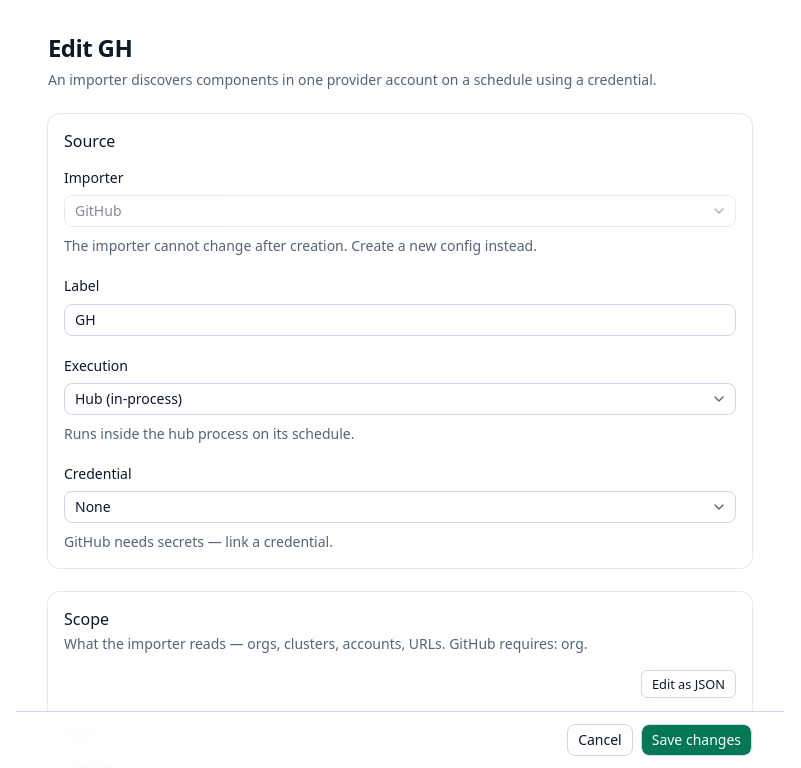
Test: ImporterForm — schema-driven scope fields (G13) › maps server unrecognized_keys errors to the Unrecognized-fields block (FR-005a)
Click the button "Save changes". click: (696, 740)
box: top-left (641, 724), bottom-right (752, 756)
(page scrolled)
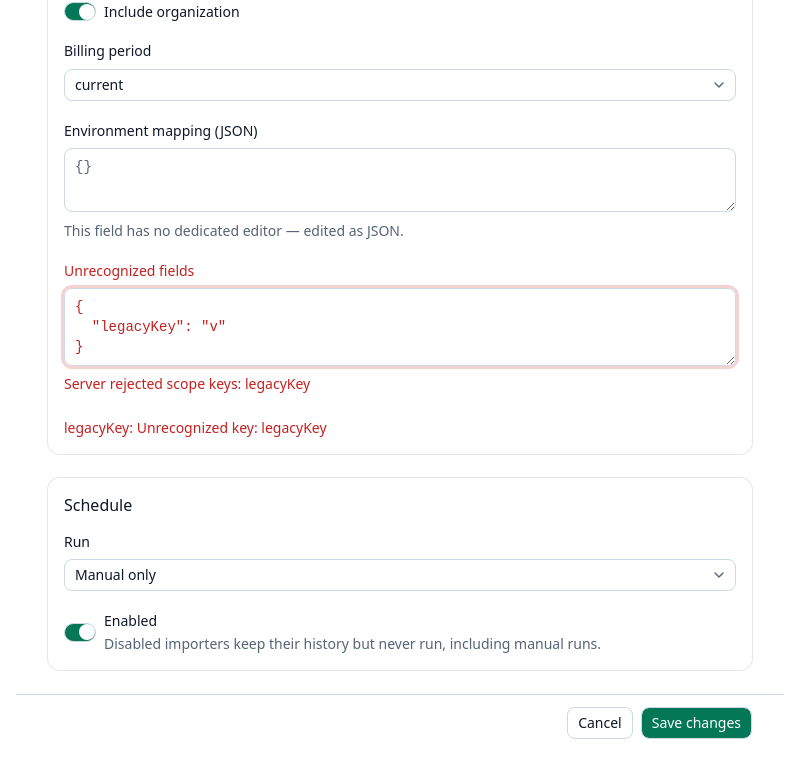
Now the text "Server rejected scope keys: legacyKey" is shown, box top-left (64, 374), bottom-right (310, 393)
